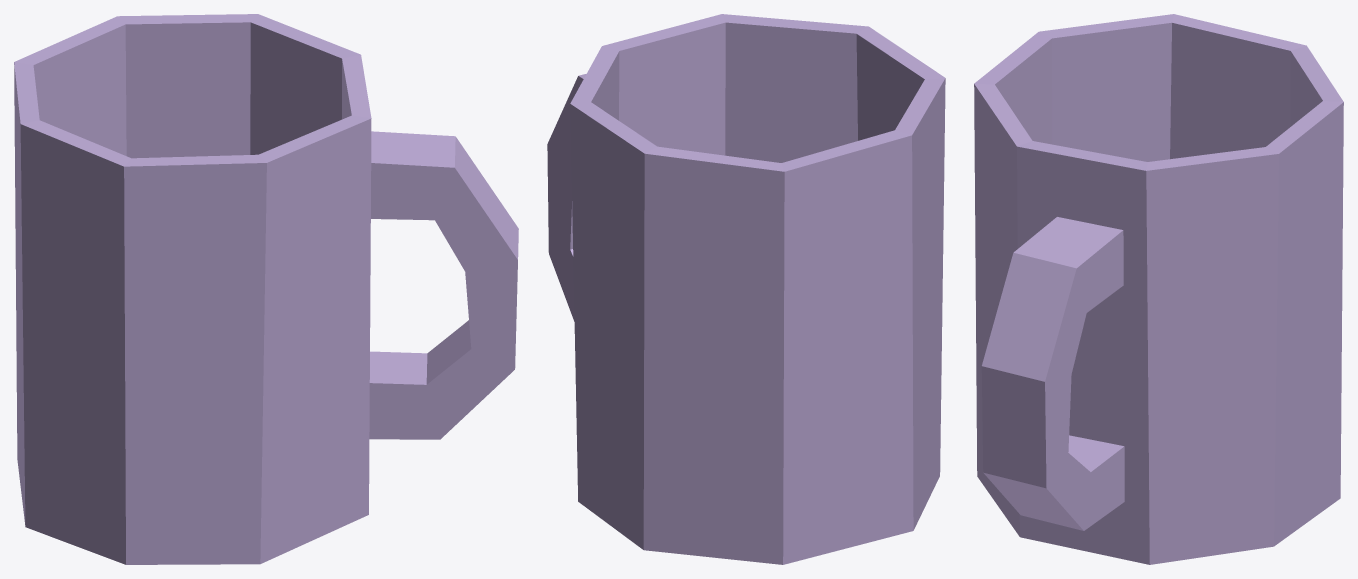
The model's file is Patio_Cup.fbx.
3 renders of one model, left to right at view 1: azimuth 30°, elevation 25°; view 2: azimuth 150°, elevation 25°; view 3: azimuth 270°, elevation 25°, orthographic.
Parts seen in each view (by area): view 1: Patio_Cup; view 2: Patio_Cup; view 3: Patio_Cup.
Part boxes in pixels (<box>): Patio_Cup: <box>14,14,518,564</box>; Patio_Cup: <box>547,14,945,564</box>; Patio_Cup: <box>974,14,1343,564</box>.
Bounding box in the file's own units: 12.21 × 9.17 × 11.02.
